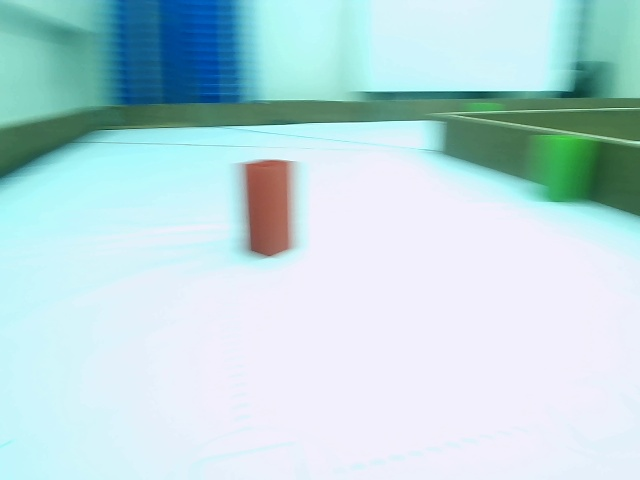red: (245, 160, 291, 253)
